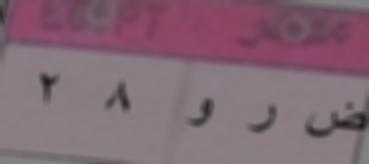2: (26, 64, 70, 116)
8: (92, 71, 148, 122)
daad: (302, 100, 368, 148)
raa: (240, 89, 283, 146)
waw: (182, 88, 223, 134)
